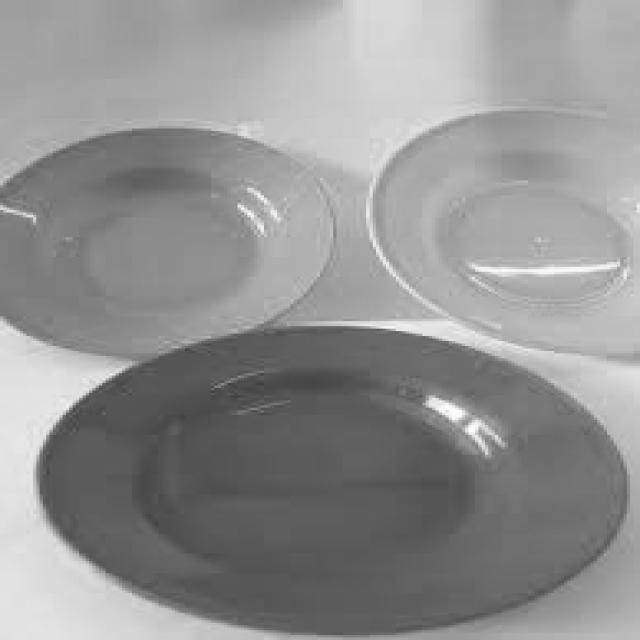dish: (22, 286, 640, 638)
